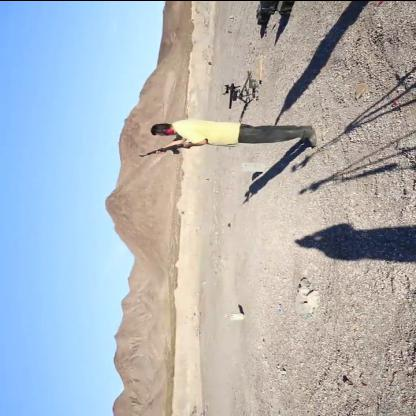long weapon: (127, 137, 240, 162), (212, 76, 266, 108)
